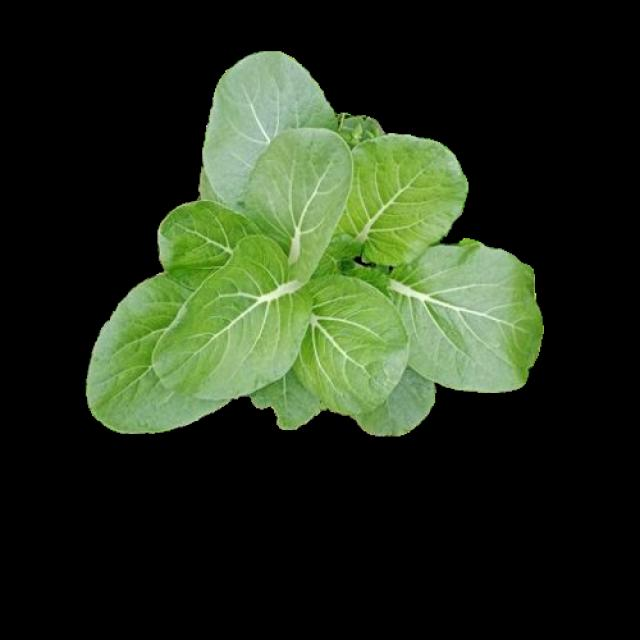healthy: (83, 47, 540, 429)
mature: (85, 50, 542, 431)
